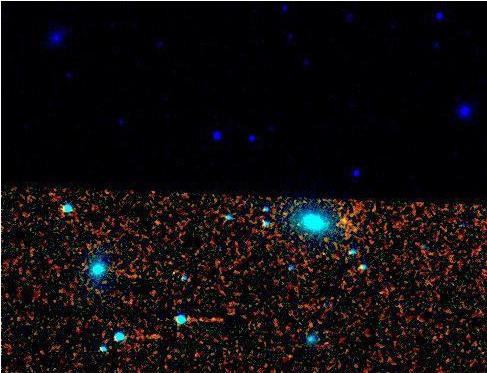star: (329, 205, 359, 235)
